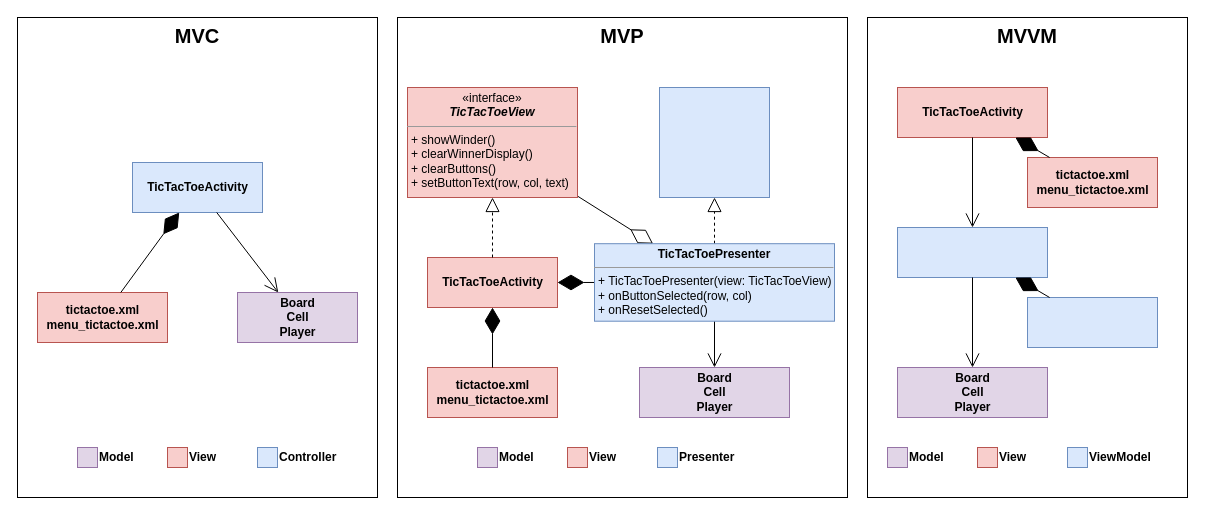
Image size: 1205x515. Some labels were removed from this diagram. Here are the shapes that lost their labels. From the top down, the centre of each, then its label:
At (714,142): "«interface» Presenter + onCreate() + onPause() + onResume() + onDestory()".
At (972,252): "TicTacToeViewModel".
At (1092,322): "LiveData".
